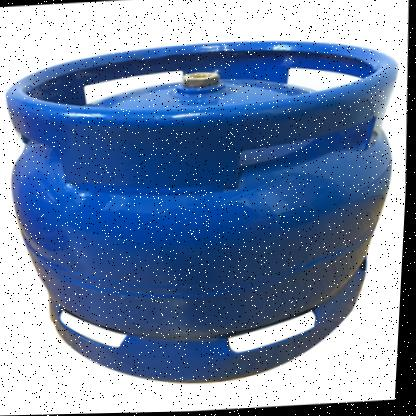gas-tank: (0, 23, 414, 400)
